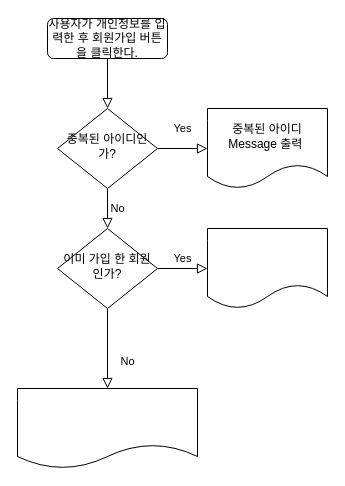
This 345x486 diagram has some shape labels left out. Here are the shapes that lost their labels. From the top down, the centre of each, then its label:
At (x=267, y=268): "이미 가입한 회원 Message 출력".
At (x=107, y=428): "회원가입 완료 1. 데이터 db 저장 2. 가입 완료 Message 출력 3. 로그인 페이지로 이동".
